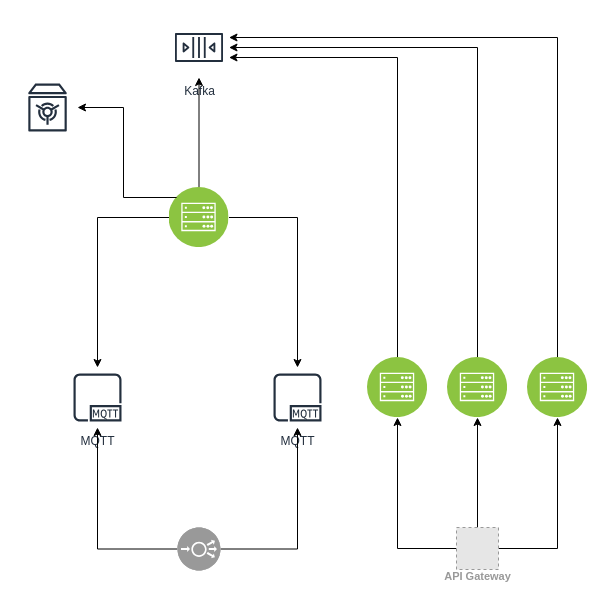
Some shapes in this 605 by 609 pixel diagram are drawn without their labels. Grey dashed boxes stand in for pictures. The centre of each missing label's shape, as x and y in pixels:
Load balancer gateway: point 198,548
Vault: point 47,107
